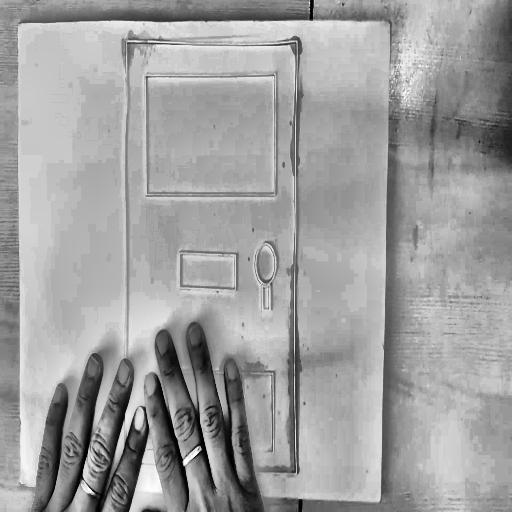bottom_left: (17, 475, 25, 488)
bottom_right: (377, 494, 385, 508)
door: (119, 31, 305, 482)
top_left: (16, 20, 23, 31)
top_right: (387, 17, 394, 31)
